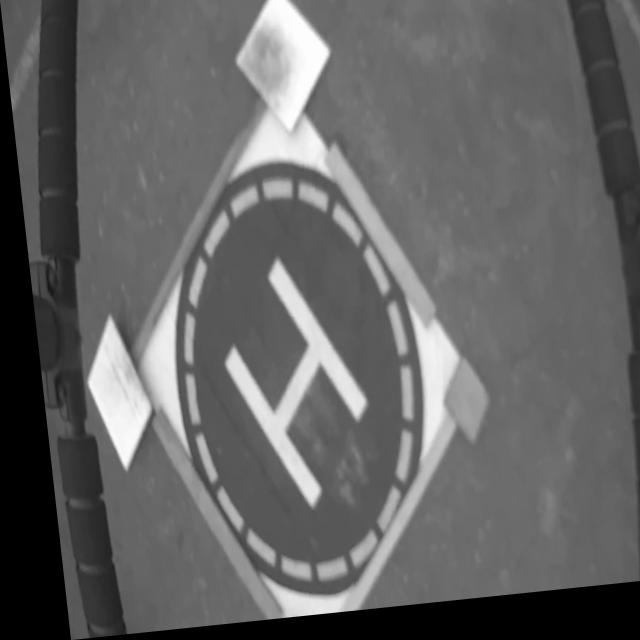Helipad: (216, 265, 359, 516)
